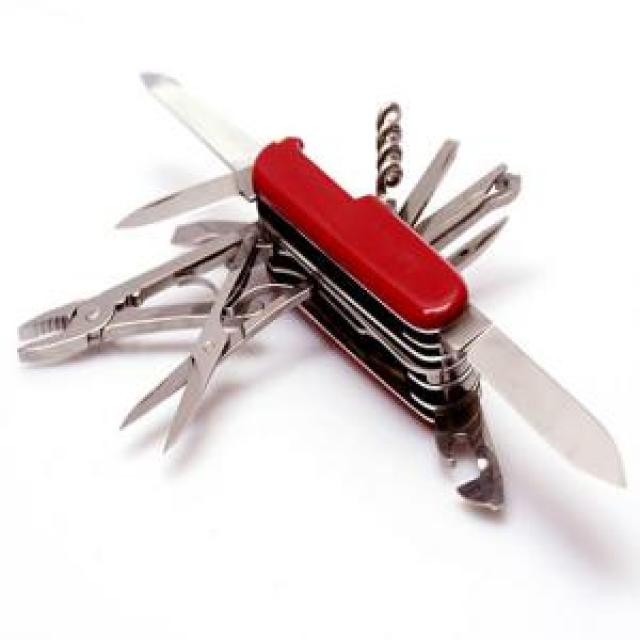knife: (19, 66, 630, 541)
